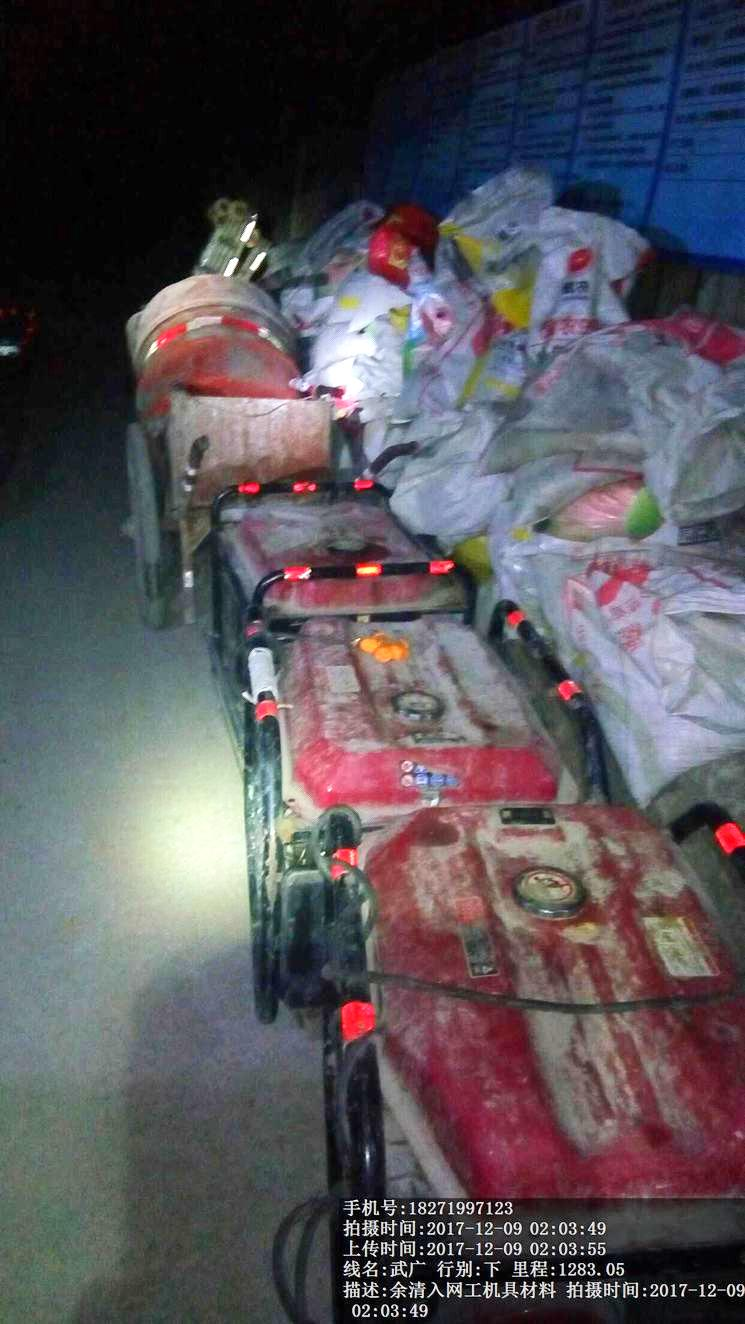DJ: (287, 808, 745, 1208), (224, 616, 603, 806), (197, 468, 477, 613)
